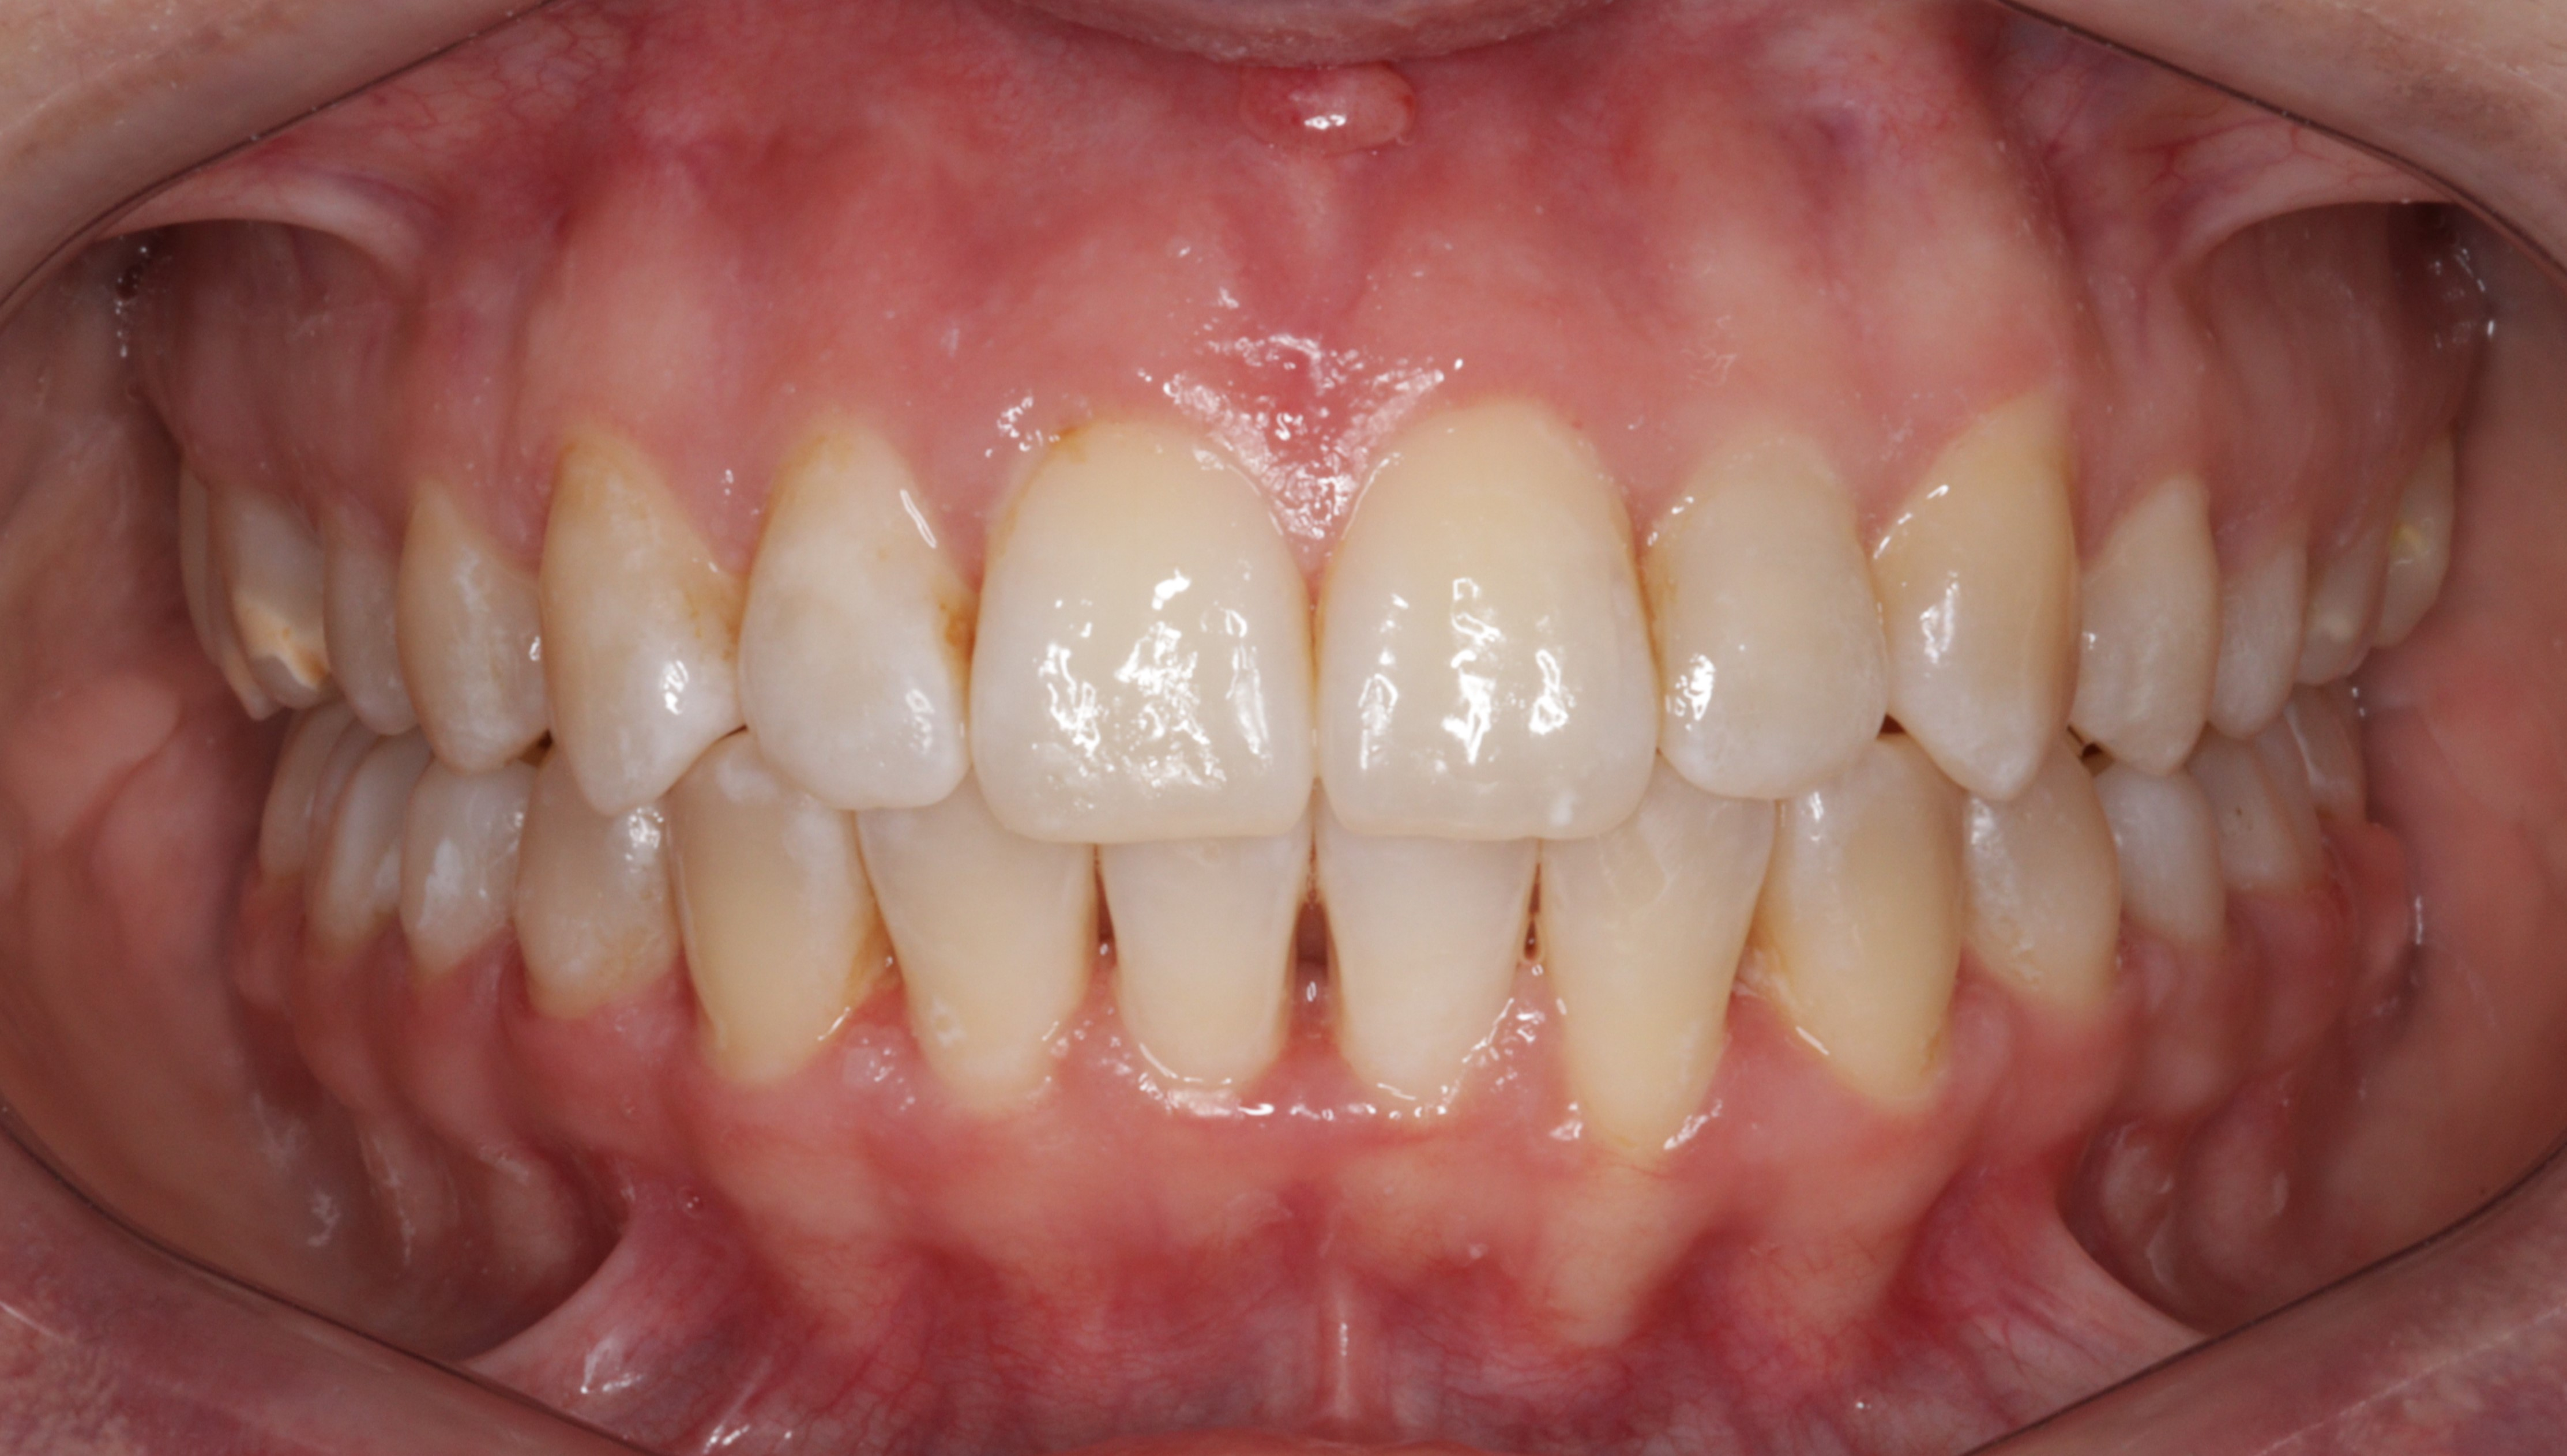LL1BC_healthy: (1969, 800, 2121, 1026)
LL1M_healthy: (2223, 746, 2318, 894)
LL2BC_healthy: (2121, 777, 2223, 943)
LL2M_healthy: (2318, 707, 2362, 816)
LLCI_healthy: (1315, 841, 1539, 1095)
LLC_healthy: (1777, 795, 1968, 1075)
LLLI_healthy: (1530, 841, 1772, 1144)
LR1BC_healthy: (511, 799, 673, 1010)
LR1M_healthy: (309, 742, 398, 950)
LR2BC_healthy: (404, 763, 518, 968)
LR2M_healthy: (263, 756, 309, 873)
LRCI_healthy: (1098, 837, 1308, 1081)
LRC_healthy: (668, 799, 857, 1065)
LRLI_healthy: (855, 818, 1093, 1091)
UL1BC_healthy: (2086, 472, 2218, 772)
UL1M_healthy: (2306, 525, 2387, 687)
UL2BC_healthy: (2221, 531, 2304, 735)
UL2M_healthy: (2387, 439, 2454, 656)
ULCI_healthy: (1321, 402, 1659, 837)
ULC_healthy: (1888, 427, 2084, 795)
ULLI_healthy: (1659, 451, 1888, 793)
UR1BC_healthy: (398, 495, 547, 770)
UR1M_decay: (208, 497, 330, 721)
UR2BC_healthy: (324, 525, 398, 726)
URCI_healthy: (973, 421, 1312, 843)
URC_healthy: (543, 455, 726, 807)
URLI_healthy: (742, 434, 963, 806)
